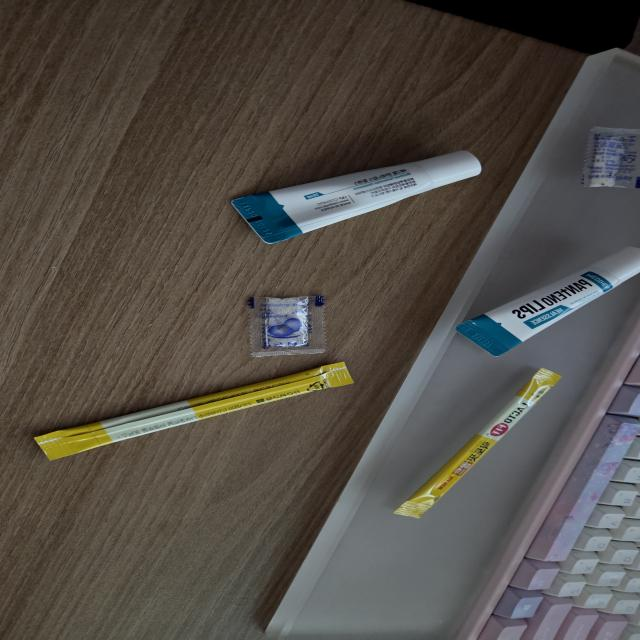lacto: (34, 360, 353, 462), (394, 366, 568, 519)
lib: (228, 151, 483, 251), (452, 246, 638, 357)
salt: (238, 294, 332, 357), (580, 127, 640, 189)
